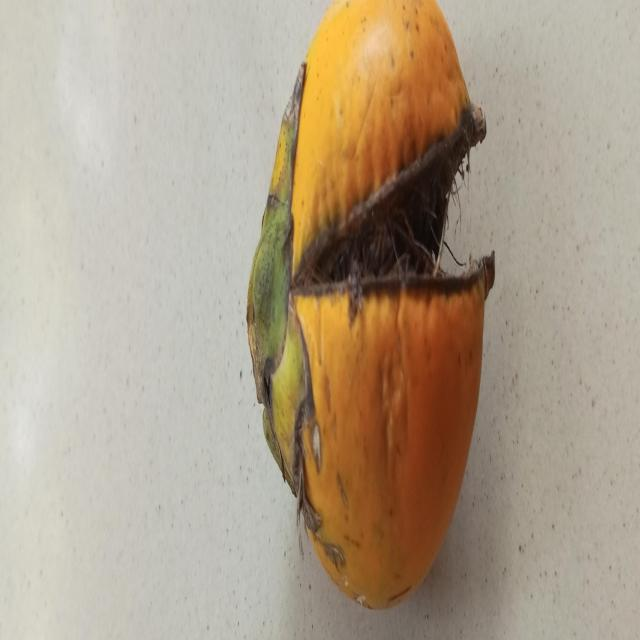damaged: (250, 0, 495, 612)
